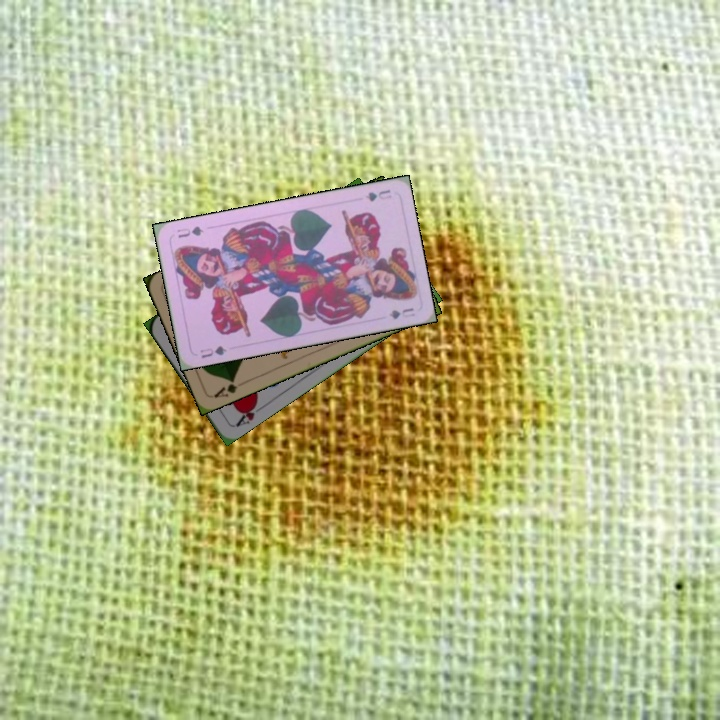GA: (210, 374, 248, 400)
GU: (196, 341, 229, 361), (362, 186, 394, 204)
HA: (231, 396, 267, 430)
